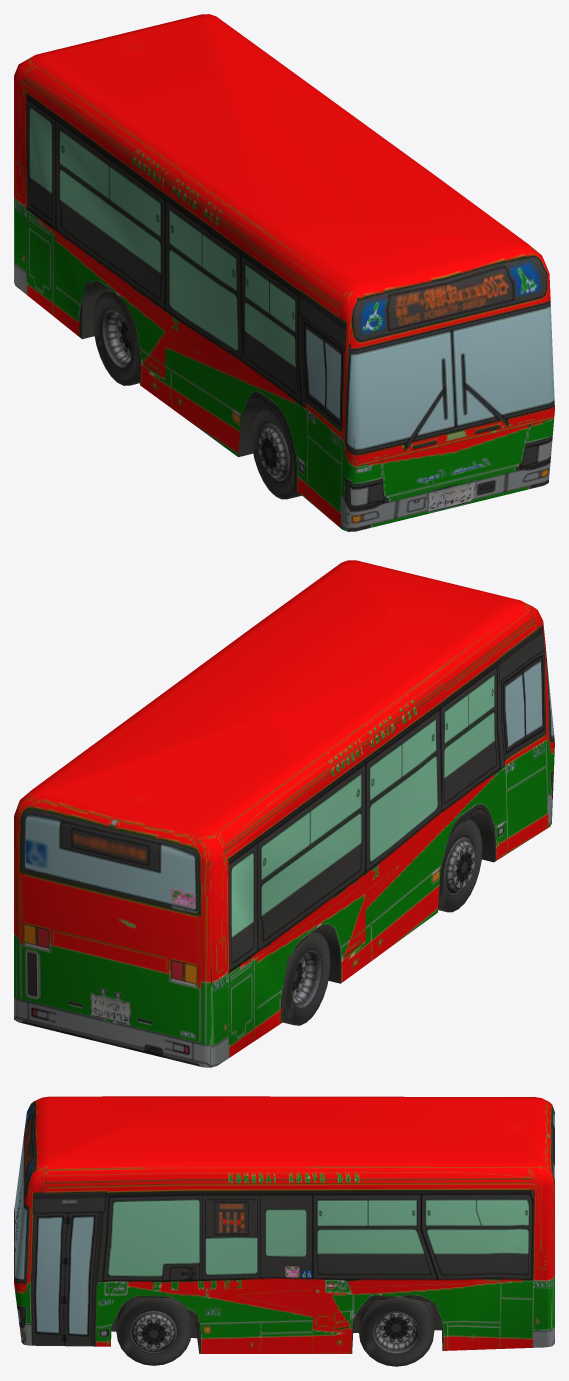
Rendered from Bus_Small_OP.fbx.
3 views of the same model, one above another, from view 1: azimuth 30°, elevation 25°; view 2: azimuth 150°, elevation 25°; view 3: azimuth 270°, elevation 25° (orthographic). The views are drawn at different scales.
Visible parts, largest first — view 1: Bus, Wheel_2R, Wheel_1R; view 2: Bus, Wheel_2R, Wheel_1R; view 3: Bus, Wheel_2L, Wheel_1L.
Boxes of the visible parts, x1,y1,x2,y2 form: Bus: [14, 14, 554, 531]; Wheel_2R: [93, 291, 139, 385]; Wheel_1R: [251, 405, 301, 499]; Bus: [14, 560, 554, 1067]; Wheel_2R: [283, 932, 330, 1025]; Wheel_1R: [438, 819, 482, 912]; Bus: [14, 1096, 554, 1353]; Wheel_2L: [359, 1297, 434, 1366]; Wheel_1L: [116, 1297, 191, 1365].
Size of the model in its own units: 2.62 by 3.09 by 7.52.
Materials: 1 (1 with a texture image).
